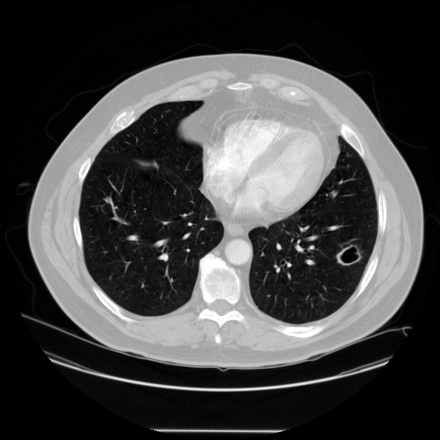PN: (338, 244, 360, 266)
